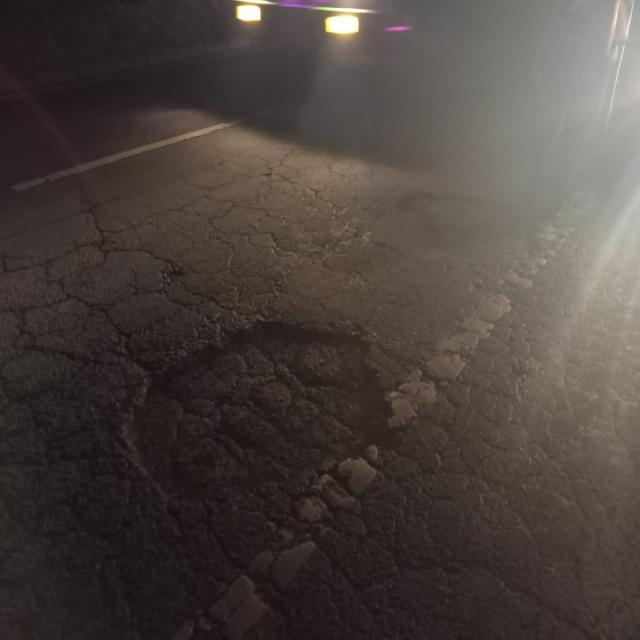Buraco: (108, 316, 409, 510)
